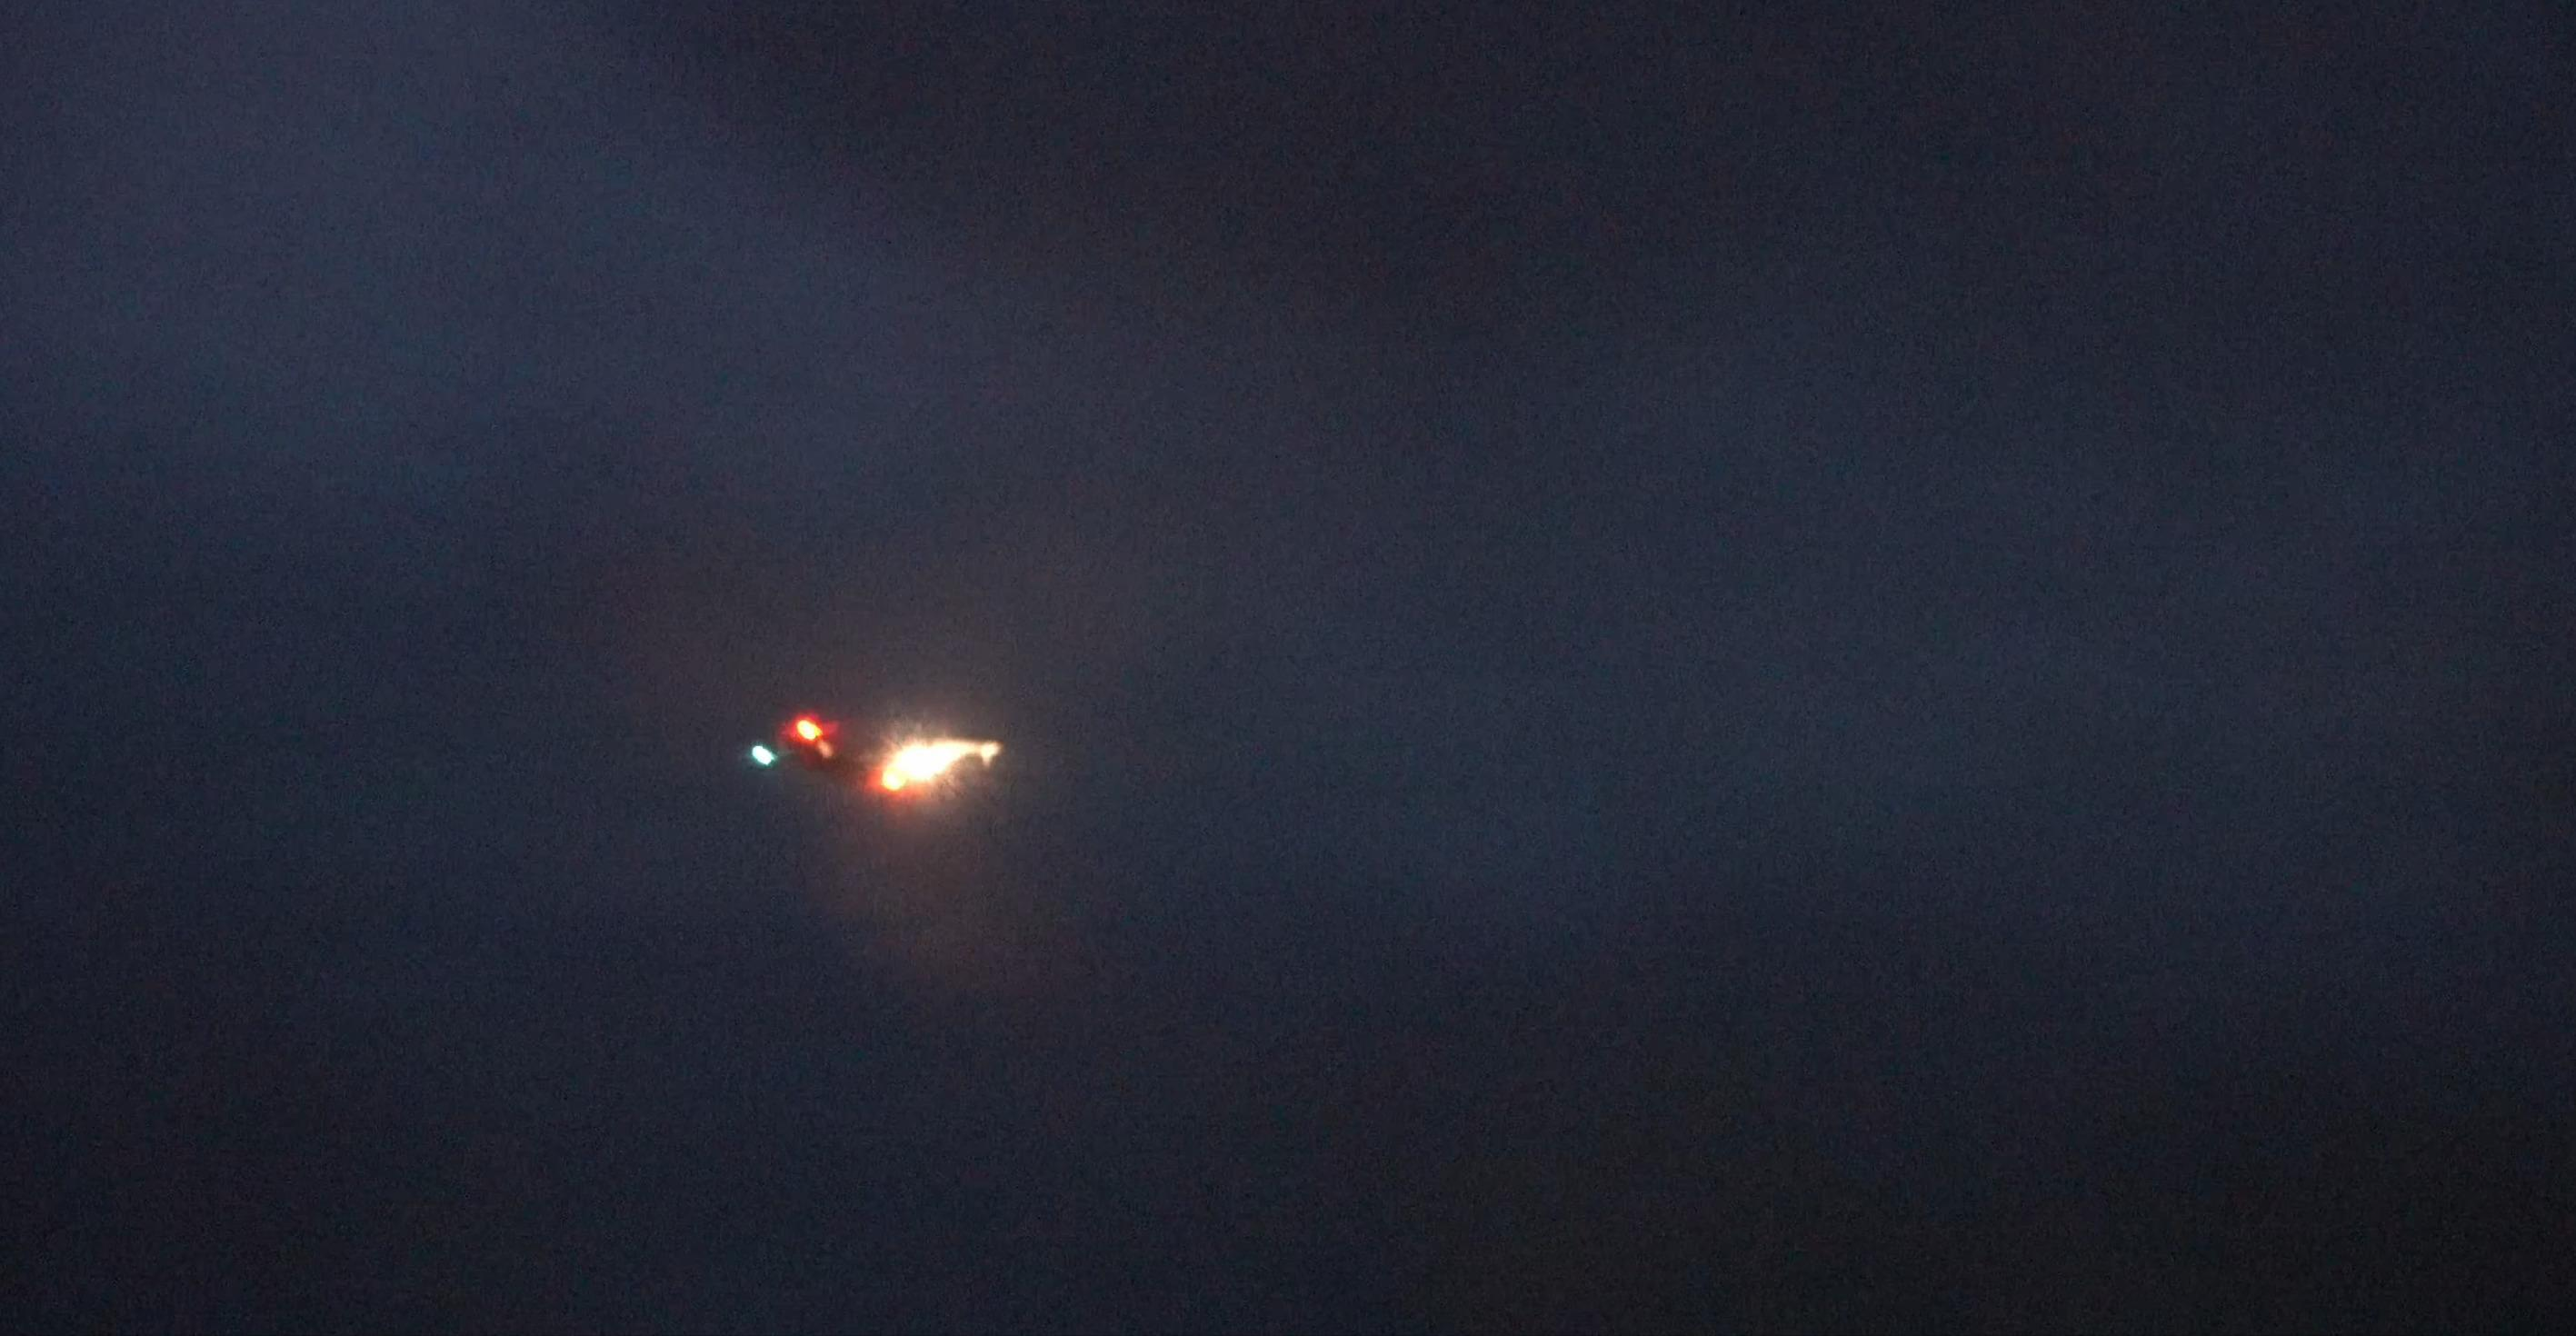Plane: (719, 711, 1029, 806)
